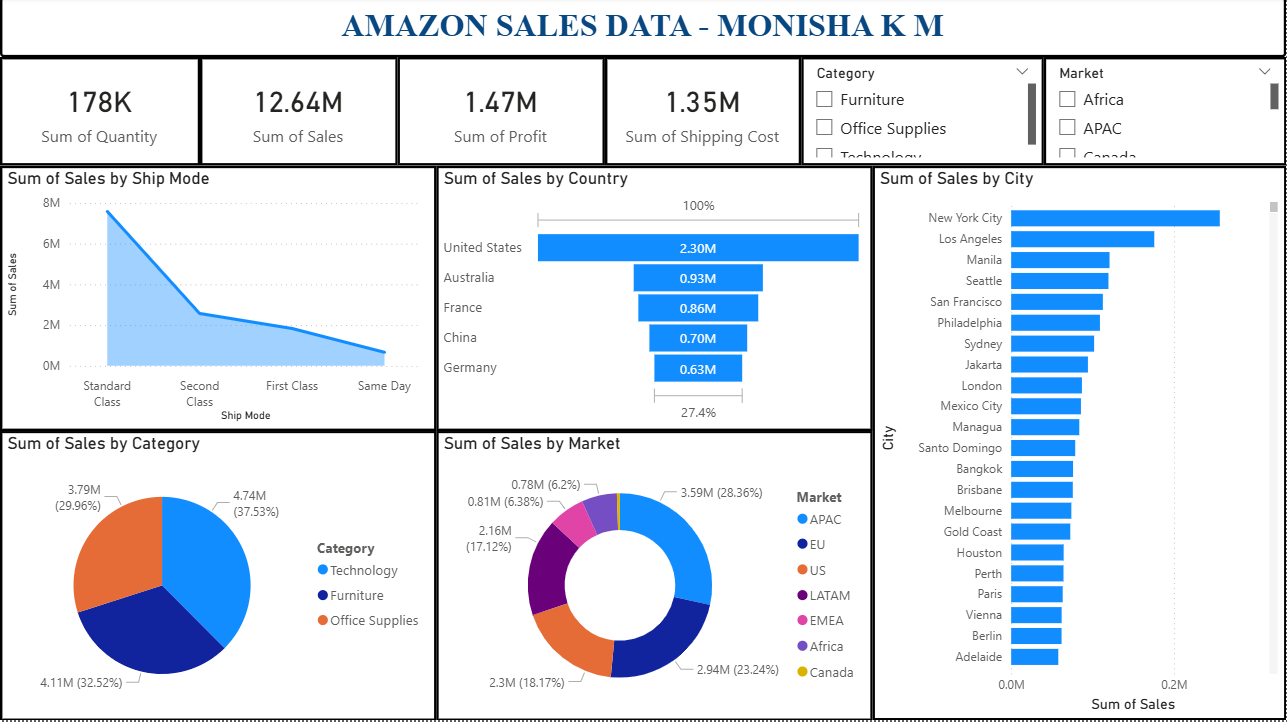

The page's visual inventory and layout, read from the dashboard file:
{"tool":"powerbi","page":{"name":"Page 1","canvas":[1280,720],"ordinal":0},"visuals":[{"type":"pieChart","fields":{"Category":["Orders.Category"],"Y":["Sum(Orders.Sales)"]},"box":[0,431.7,434.1,288.6],"z":0},{"type":"donutChart","fields":{"Category":["Orders.Market"],"Y":["Sum(Orders.Sales)"]},"box":[434.1,431.7,434.1,288.6],"z":1},{"type":"areaChart","fields":{"Category":["Orders.Ship Mode"],"Y":["Sum(Orders.Sales)"]},"box":[0,167.9,434.1,263.7],"z":2},{"type":"clusteredBarChart","fields":{"Category":["Orders.City"],"Y":["Sum(Orders.Sales)"]},"box":[868.3,167.9,411.8,552.3],"z":3},{"type":"funnel","fields":{"Category":["Orders.Country"],"Y":["Sum(Orders.Sales)"]},"box":[434.1,167.9,434.1,263.7],"z":4},{"type":"textbox","box":[0,0,1280,59.7],"z":5},{"type":"card","fields":{"Values":["Sum(Orders.Quantity)"]},"box":[0,59.7,199,108.2],"z":6},{"type":"card","fields":{"Values":["Sum(Orders.Sales)"]},"box":[199,59.7,196.5,108.2],"z":7},{"type":"card","fields":{"Values":["Sum(Orders.Profit)"]},"box":[395.6,59.7,206.5,108.2],"z":8},{"type":"card","fields":{"Values":["Sum(Orders.Shipping Cost)"]},"box":[602.1,59.7,195.3,108.2],"z":9},{"type":"slicer","fields":{"Values":["Orders.Category"]},"box":[797.4,59.7,241.3,108.2],"z":10},{"type":"slicer","fields":{"Values":["Orders.Market"]},"box":[1038.7,59.7,241.3,108.2],"z":11}]}

Visuals, with their boxes in screenshot pixels (x1, y1, x2, y2), scaled from the page's 1280x720 canvas onto the 1287x722 screenshot:
pieChart - Orders.Category x Sum(Orders.Sales): [left=0, top=433, right=436, bottom=721]
donutChart - Orders.Market x Sum(Orders.Sales): [left=436, top=433, right=873, bottom=721]
areaChart - Orders.Ship Mode x Sum(Orders.Sales): [left=0, top=168, right=436, bottom=433]
clusteredBarChart - Orders.City x Sum(Orders.Sales): [left=873, top=168, right=1286, bottom=721]
funnel - Orders.Country x Sum(Orders.Sales): [left=436, top=168, right=873, bottom=433]
textbox: [left=0, top=0, right=1286, bottom=60]
card - Sum(Orders.Quantity): [left=0, top=60, right=200, bottom=168]
card - Sum(Orders.Sales): [left=200, top=60, right=398, bottom=168]
card - Sum(Orders.Profit): [left=398, top=60, right=605, bottom=168]
card - Sum(Orders.Shipping Cost): [left=605, top=60, right=802, bottom=168]
slicer - Orders.Category: [left=802, top=60, right=1044, bottom=168]
slicer - Orders.Market: [left=1044, top=60, right=1286, bottom=168]
